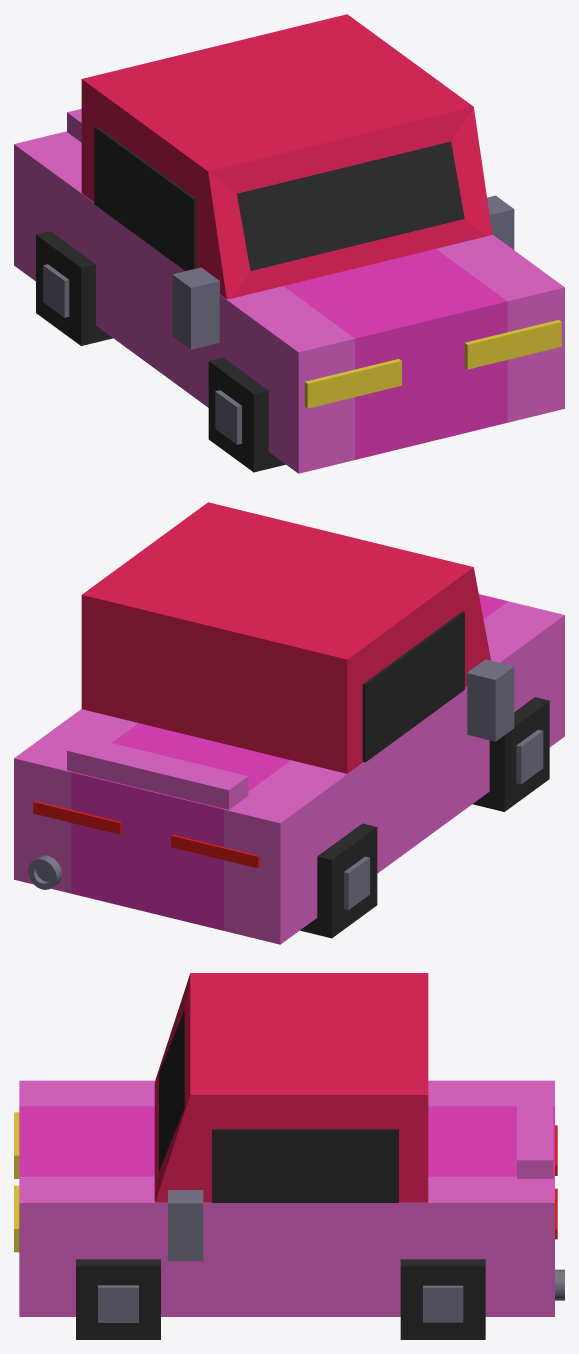
File: car2.fbx
3 renders of one model, top to bottom at view 1: azimuth 30°, elevation 25°; view 2: azimuth 150°, elevation 25°; view 3: azimuth 270°, elevation 25°, orthographic. The views are drawn at different scales.
Visible parts, largest first — view 1: Cube.001, Cube, Cube.006, Cube.007, Cube.004, Cube.003, Cube.005, Cube.008, Cube.009; view 2: Cube.001, Cube, Cube.006, Cube.002, Cube.005, Cube.003, Cube.004, Cube.010, Cube.008, Cube.009, Cylinder; view 3: Cube, Cube.001, Cube.006, Cube.005, Cube.003, Cube.002, Cube.004, Cube.008, Cube.009, Cube.007.
Boxes of the visible parts, x1,y1,x2,y2 form: Cube.001: (81, 14, 492, 299); Cube: (14, 131, 564, 473); Cube.006: (94, 126, 196, 270); Cube.007: (304, 320, 561, 408); Cube.004: (172, 195, 514, 349); Cube.003: (208, 357, 285, 472); Cube.005: (36, 231, 112, 345); Cube.008: (215, 390, 241, 444); Cube.009: (43, 264, 69, 317); Cube.001: (81, 502, 490, 773); Cube: (14, 594, 564, 944); Cube.006: (362, 611, 464, 762); Cube.002: (67, 736, 248, 809); Cube.005: (300, 823, 377, 938); Cube.003: (472, 697, 549, 811); Cube.004: (467, 659, 514, 741); Cube.010: (33, 801, 259, 868); Cube.008: (516, 729, 543, 784); Cube.009: (344, 856, 369, 909); Cylinder: (28, 855, 61, 889); Cube: (19, 1080, 554, 1316); Cube.001: (154, 973, 428, 1202); Cube.006: (212, 1129, 398, 1202); Cube.005: (400, 1259, 485, 1339); Cube.003: (76, 1259, 160, 1339); Cube.002: (517, 1086, 553, 1178); Cube.004: (168, 1190, 203, 1261); Cube.008: (98, 1285, 138, 1322); Cube.009: (423, 1285, 463, 1322); Cube.007: (14, 1112, 19, 1252).
Bounding box in the file's own units: 48.71 × 36.38 × 76.41.
